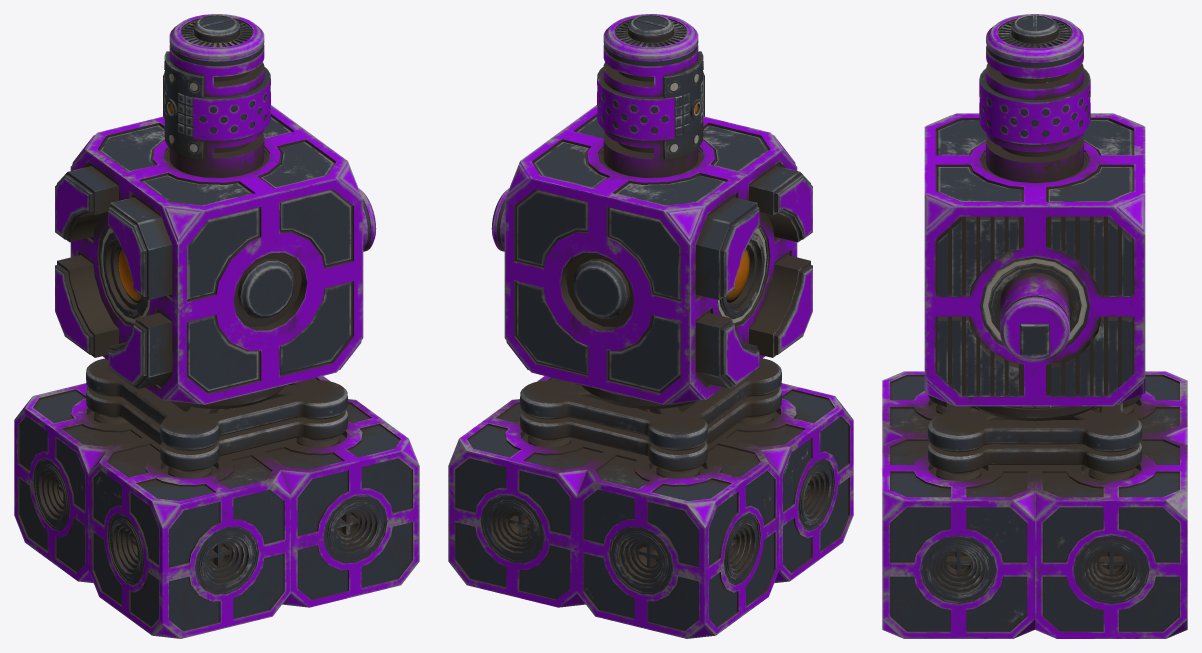
File: laser_ciws.glb
3 renders of one model, left to right at view 1: azimuth 30°, elevation 25°; view 2: azimuth 150°, elevation 25°; view 3: azimuth 270°, elevation 25°, orthographic. The views are drawn at different scales.
Parts seen in each view (by area): view 1: laser_CIWS_emitter, laser_CIWS_base, laser_CIWS_riser; view 2: laser_CIWS_emitter, laser_CIWS_base, laser_CIWS_riser; view 3: laser_CIWS_emitter, laser_CIWS_base, laser_CIWS_riser.
Boxes of the visible parts, x1=… form: laser_CIWS_emitter: x1=55, y1=14, x2=376, y2=404; laser_CIWS_base: x1=14, y1=376, x2=419, y2=638; laser_CIWS_riser: x1=86, y1=358, x2=347, y2=471; laser_CIWS_emitter: x1=491, y1=14, x2=812, y2=404; laser_CIWS_base: x1=448, y1=376, x2=853, y2=638; laser_CIWS_riser: x1=520, y1=358, x2=781, y2=471; laser_CIWS_emitter: x1=924, y1=14, x2=1145, y2=406; laser_CIWS_base: x1=882, y1=371, x2=1187, y2=638; laser_CIWS_riser: x1=928, y1=395, x2=1141, y2=473.
Size of the model in its own units: 4.27 by 7.96 by 4.
Materials: 1 (1 with a texture image).
